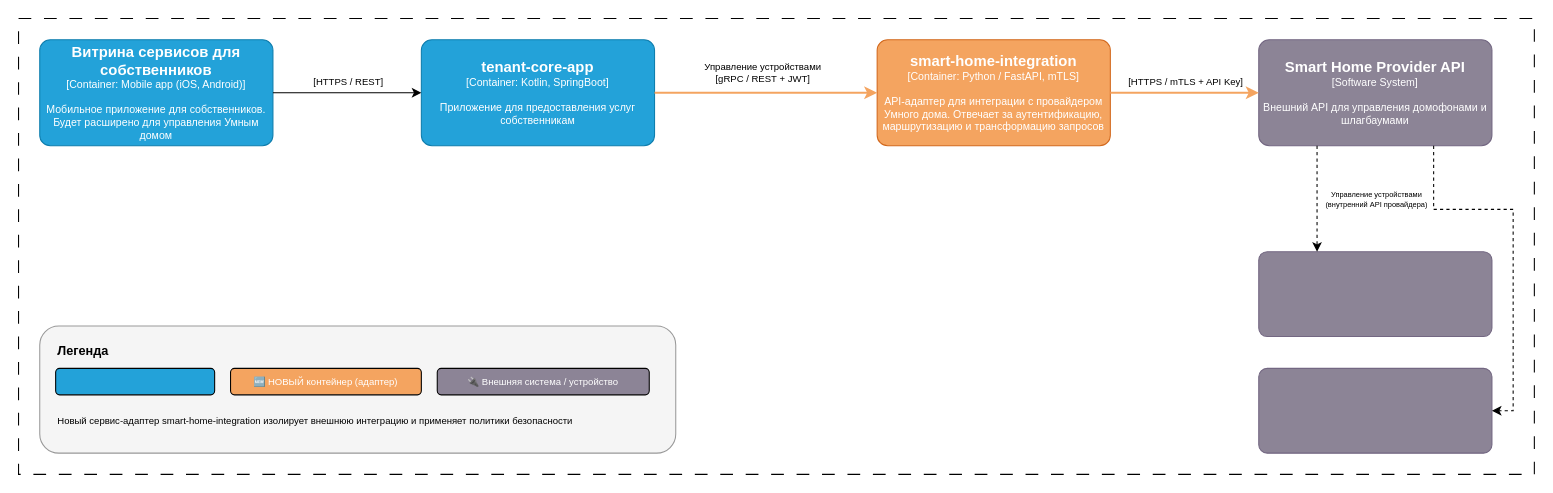
The diagram is 1553 pixels wide and 493 high, and some of its shapes have lost their labels. The shapes that lost their labels are listed below. From the top down, each one's centre as x and y in pixels, then its label:
At point (1375, 294): "Smart Intercom [Device: IoT] Интеллектуальный домофон с биометрией".
At point (135, 381): "📦 Существующий контейнер".
At point (1375, 410): "Smart Barrier [Device: IoT] Интеллектуальный шлагбаум с распознаванием номеров".
